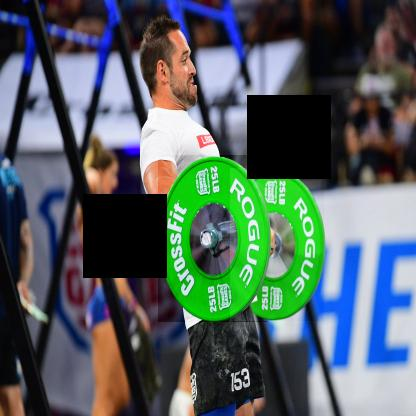barbell: (159, 156, 269, 323), (231, 169, 325, 322)
